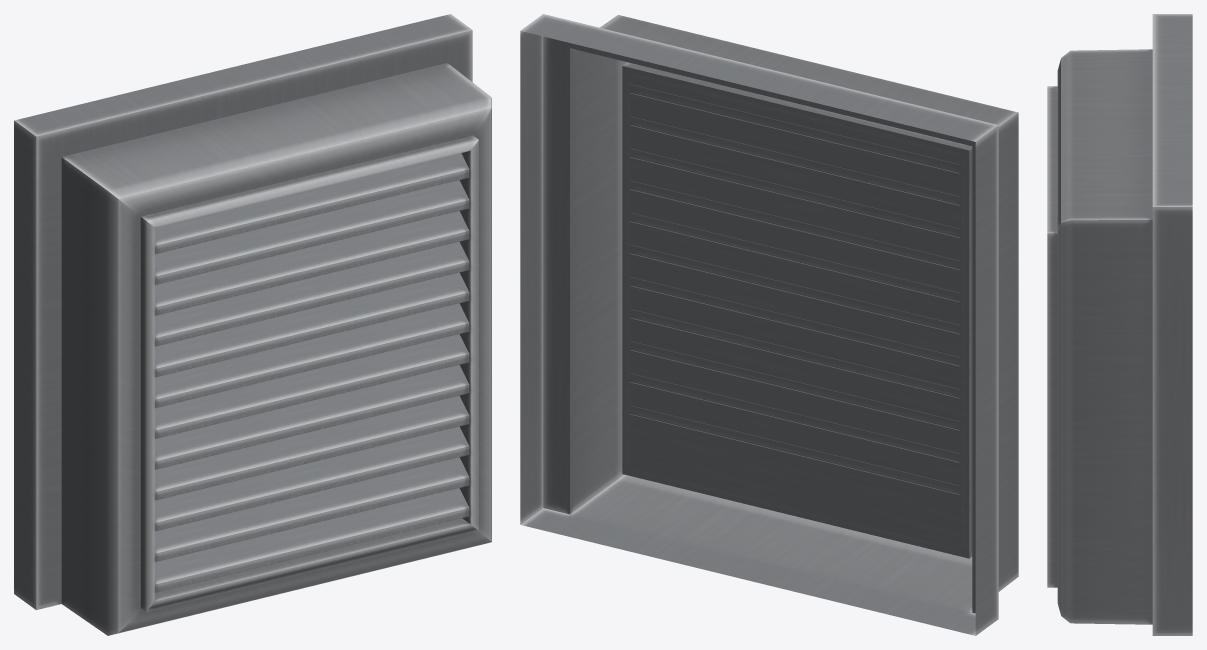
Rendered from MetalAC_B.fbx.
3 views of the same model, side by side, from view 1: azimuth 30°, elevation 25°; view 2: azimuth 150°, elevation 25°; view 3: azimuth 270°, elevation 25° (orthographic). The views are drawn at different scales.
Parts seen in each view (by area): view 1: MetalAC_B; view 2: MetalAC_B; view 3: MetalAC_B.
Part boxes in pixels (box(x1,y1,x2,y2)): MetalAC_B: box(14, 14, 491, 635); MetalAC_B: box(520, 14, 1018, 635); MetalAC_B: box(1047, 14, 1192, 635).
Size of the model in its own units: 70.91 by 73.5 by 22.59.
